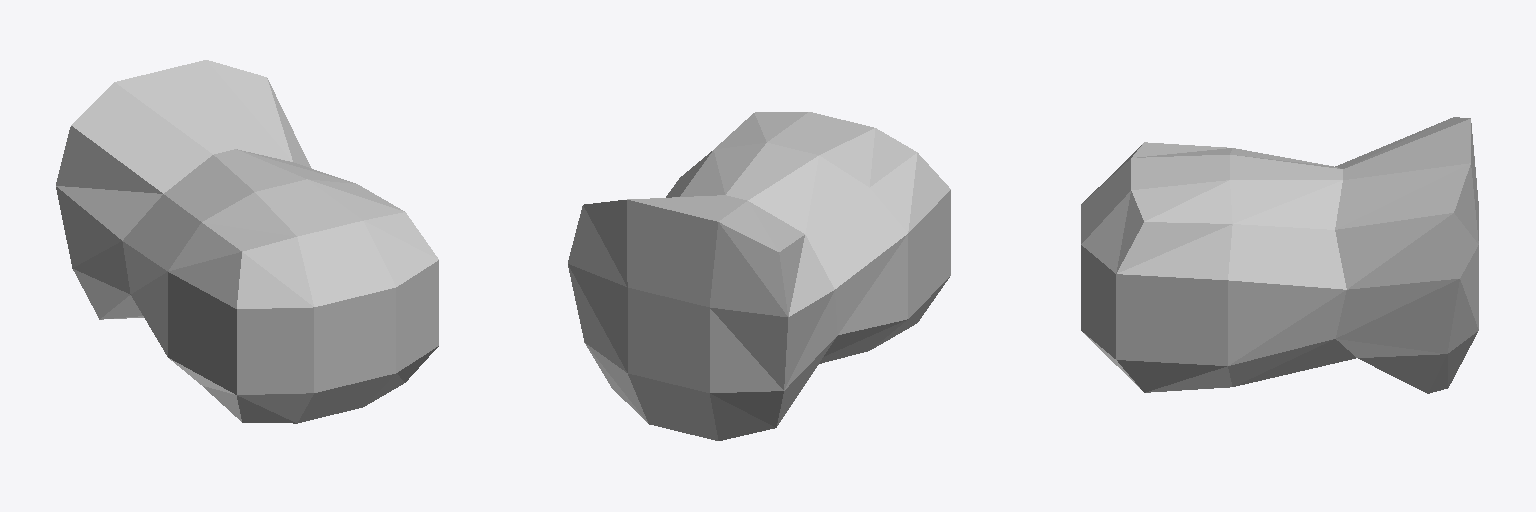
File: fumocolission.obj
3 renders of one model, left to right at view 1: azimuth 30°, elevation 25°; view 2: azimuth 150°, elevation 25°; view 3: azimuth 270°, elevation 25°, orthographic.
Parts seen in each view (by area): view 1: Cube_Cube.001; view 2: Cube_Cube.001; view 3: Cube_Cube.001.
Boxes of the visible parts, <box> form: Cube_Cube.001: <box>56,60,438,423</box>; Cube_Cube.001: <box>568,112,950,440</box>; Cube_Cube.001: <box>1081,117,1478,393</box>.
Size of the model in its own units: 18.57 by 17.9 by 28.